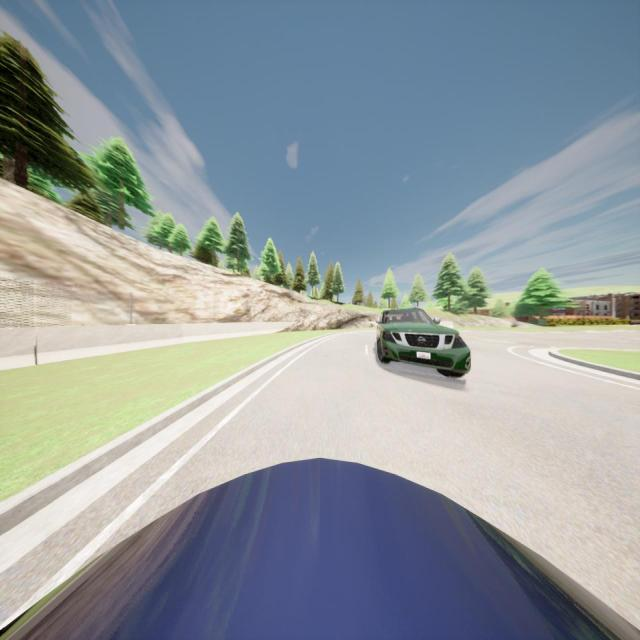Vehicle: (0, 458, 640, 640), (376, 307, 470, 377)
